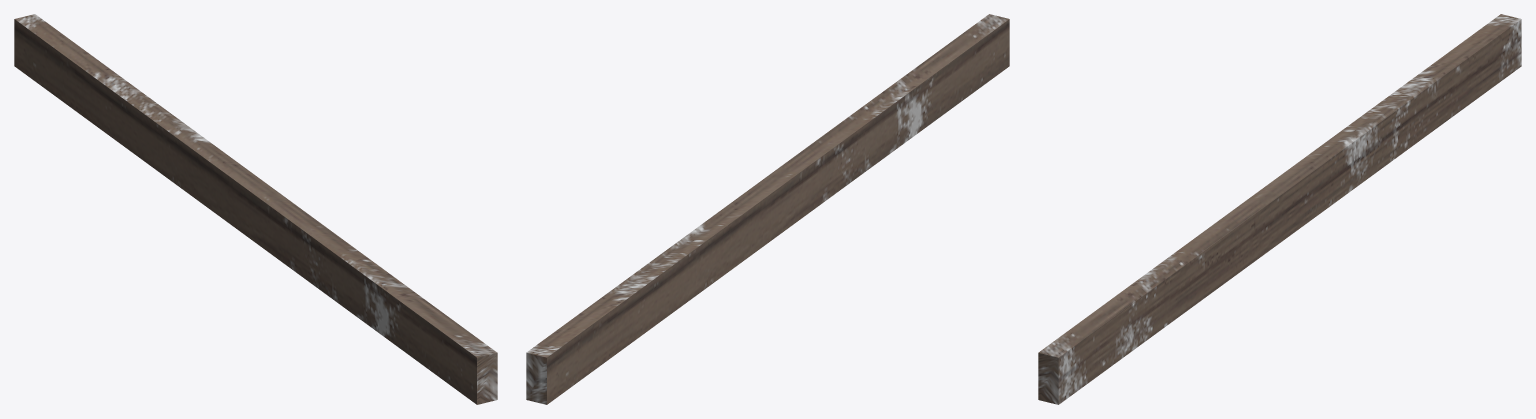
The model's file is roof_pattern_three.fbx.
3 views of the same model, side by side, from view 1: azimuth 30°, elevation 25°; view 2: azimuth 150°, elevation 25°; view 3: azimuth 330°, elevation 25° (orthographic).
Parts seen in each view (by area): view 1: Roof_Pattern_Three; view 2: Roof_Pattern_Three; view 3: Roof_Pattern_Three.
Part boxes in pixels (<box>): Roof_Pattern_Three: <box>14,14,497,404</box>; Roof_Pattern_Three: <box>526,14,1009,404</box>; Roof_Pattern_Three: <box>1038,14,1521,404</box>.
Bounding box in the file's own units: 27.85 × 60.68 × 1077.
Materials: 1 (1 with a texture image).
